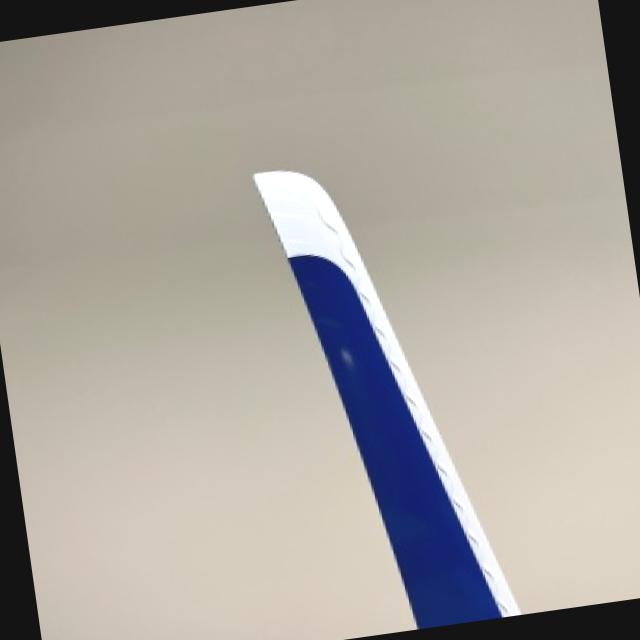healthy: (254, 169, 516, 628)
